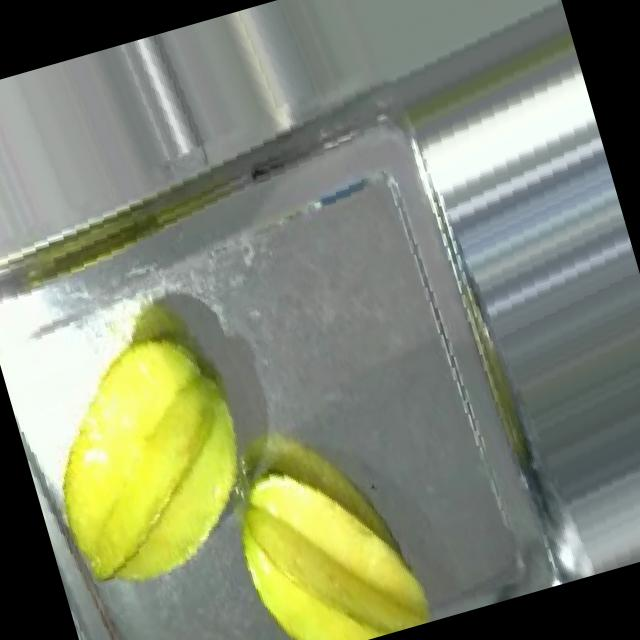fruit: (2, 302, 286, 612), (206, 424, 442, 640)
